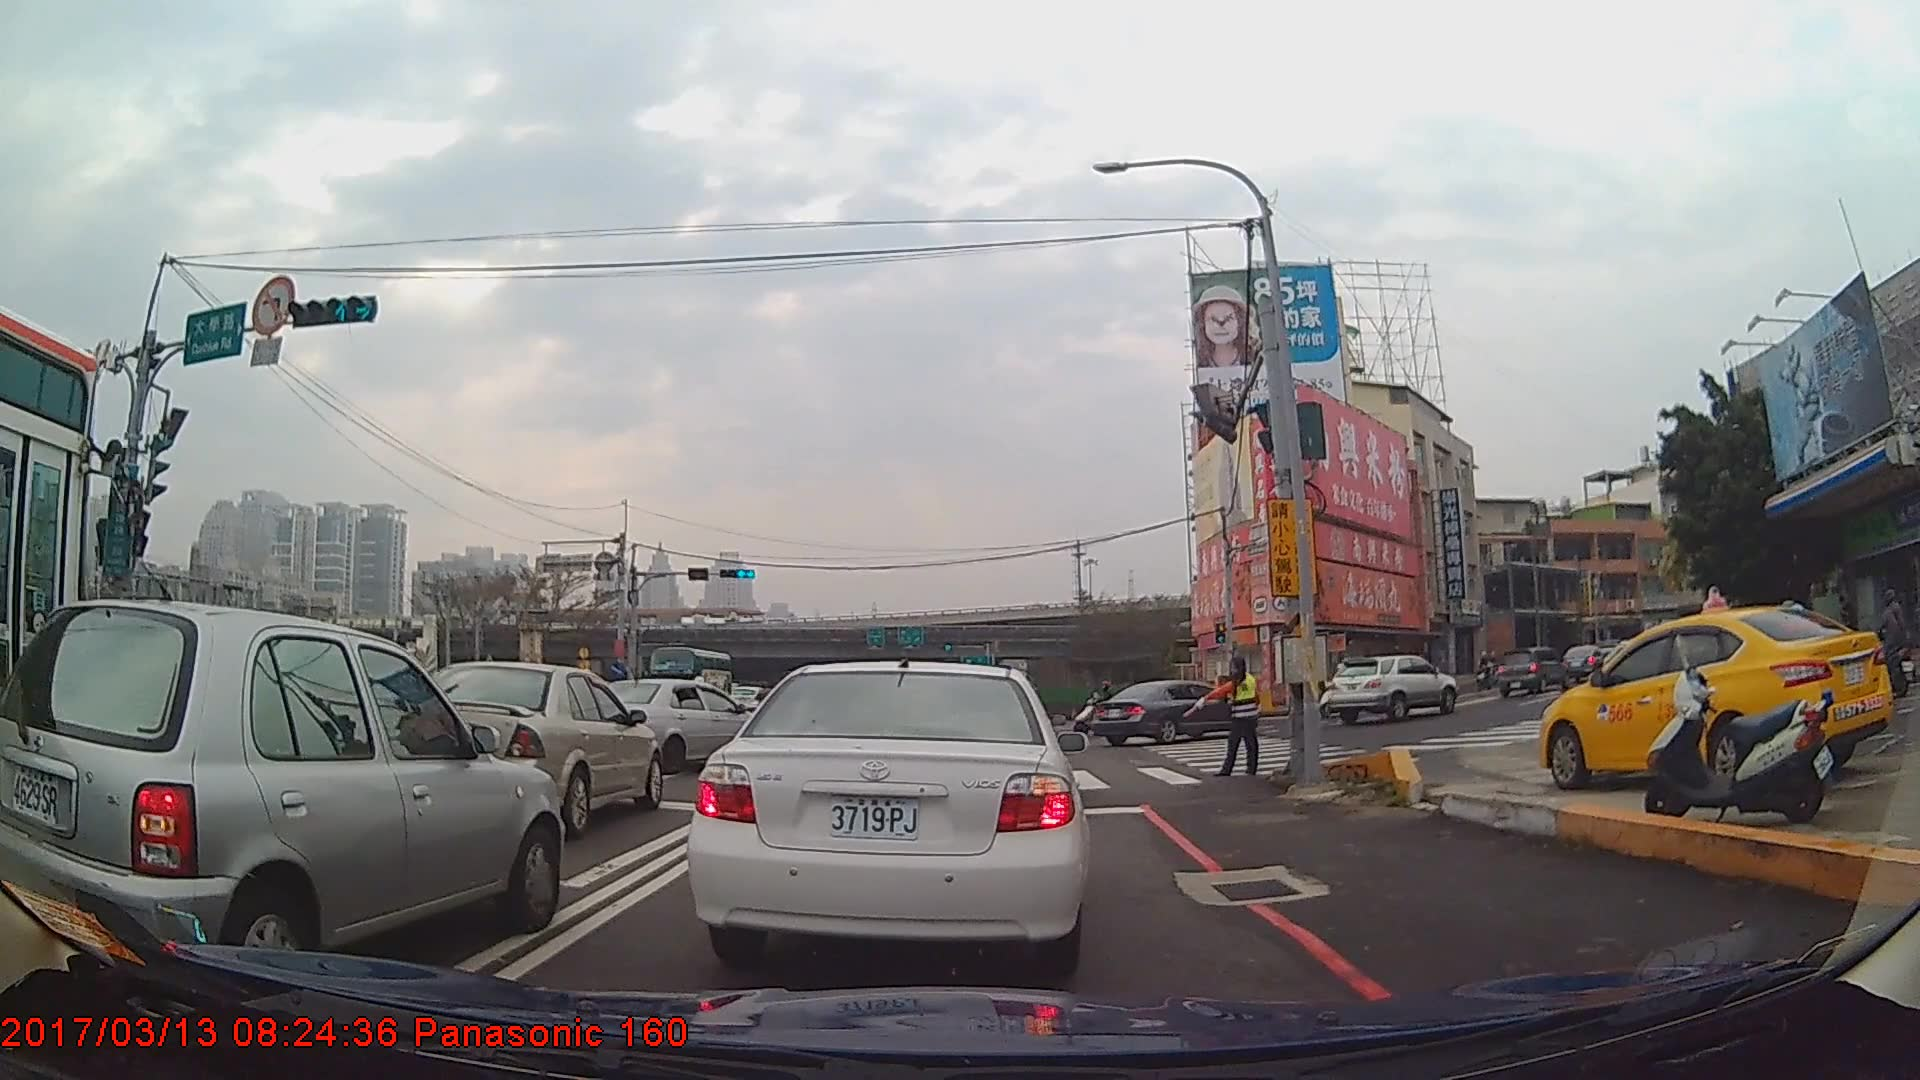pedestrian: (1183, 657, 1261, 778)
rider: (1869, 587, 1920, 699), (1076, 681, 1136, 739), (1321, 662, 1356, 715)
vehicle: (0, 598, 565, 986), (686, 652, 1090, 968), (1540, 603, 1894, 793), (0, 297, 98, 841), (400, 659, 662, 838), (587, 676, 767, 773), (1089, 680, 1246, 747), (1329, 651, 1456, 721), (648, 645, 732, 703), (1494, 645, 1570, 696), (730, 684, 770, 713)
